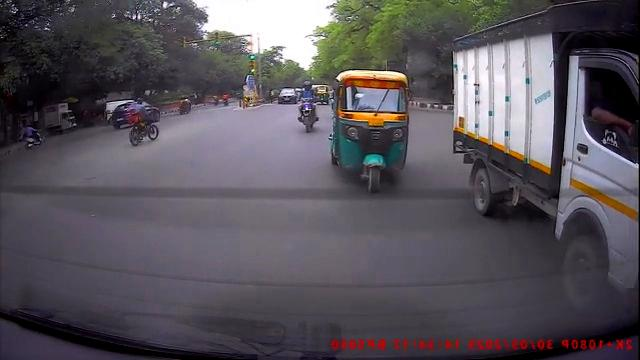motorcycle_with_helmet: (296, 79, 320, 134)
